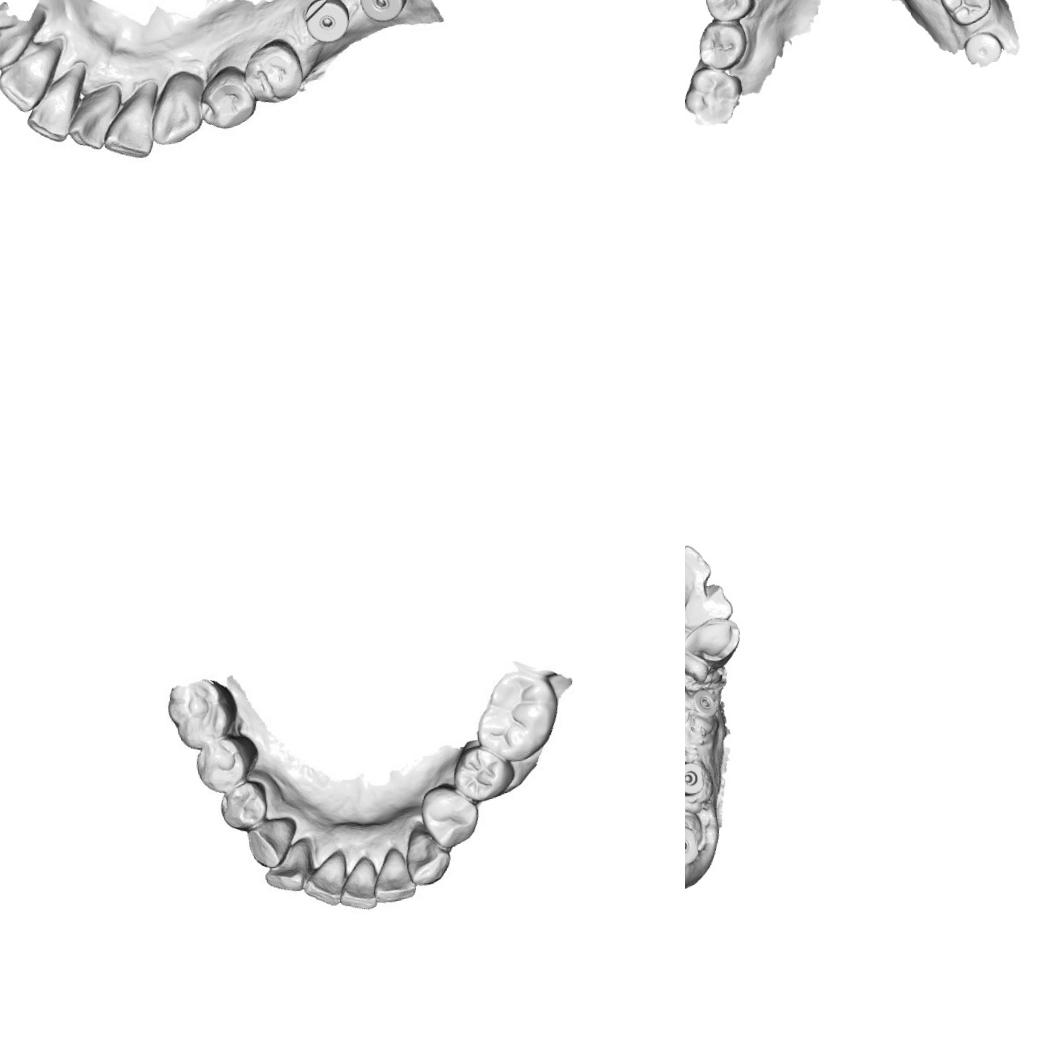canine: (144, 74, 206, 146), (243, 816, 302, 872), (685, 613, 745, 667), (402, 826, 453, 889)
implant: (300, 0, 353, 49), (961, 28, 1005, 70), (690, 685, 722, 721), (356, 0, 409, 21), (685, 758, 708, 799), (685, 822, 700, 869)
incisor: (16, 56, 96, 148), (95, 74, 168, 166), (0, 37, 76, 118), (60, 76, 130, 160), (259, 839, 317, 896), (368, 848, 418, 909), (297, 853, 349, 910), (335, 856, 382, 916), (685, 579, 736, 632), (685, 541, 714, 603)
molar: (467, 664, 566, 766), (162, 674, 236, 751), (685, 63, 747, 128)
premolar: (189, 728, 262, 796), (417, 781, 484, 854), (446, 739, 516, 805), (246, 38, 304, 103), (200, 67, 257, 132), (213, 780, 273, 834), (694, 18, 750, 74), (934, 0, 994, 31), (700, 0, 758, 25)
